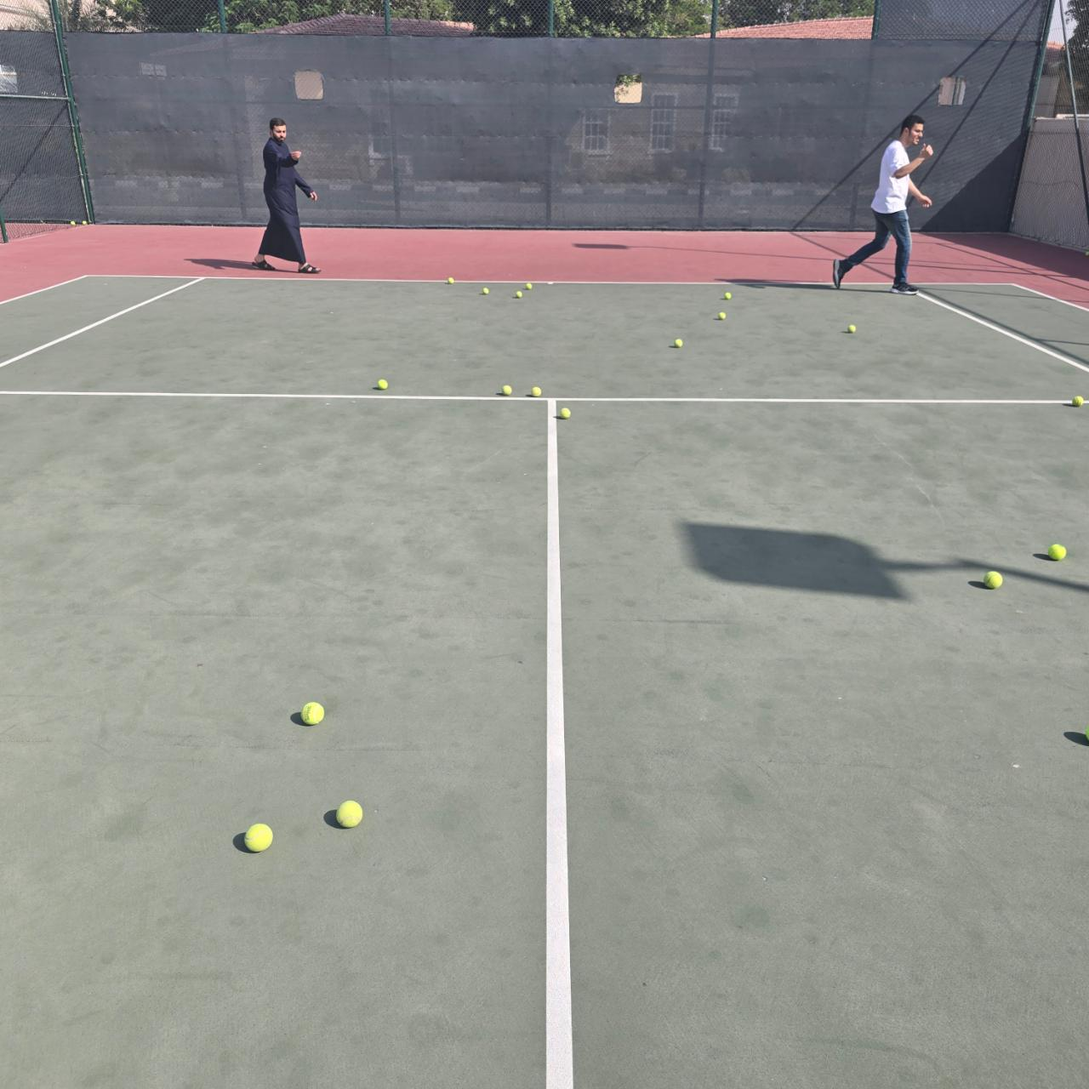tennis-ball: (243, 820, 273, 852), (334, 797, 363, 828), (299, 699, 324, 725), (983, 568, 1002, 589), (1047, 541, 1065, 560), (559, 407, 571, 419), (1072, 396, 1084, 407), (532, 386, 542, 397), (502, 385, 512, 396), (378, 379, 387, 390), (847, 324, 857, 333), (675, 339, 683, 348), (718, 313, 726, 319), (725, 292, 731, 300), (516, 291, 522, 298), (448, 277, 454, 284), (526, 284, 532, 290), (483, 288, 489, 294), (71, 221, 76, 225), (82, 221, 86, 225)
